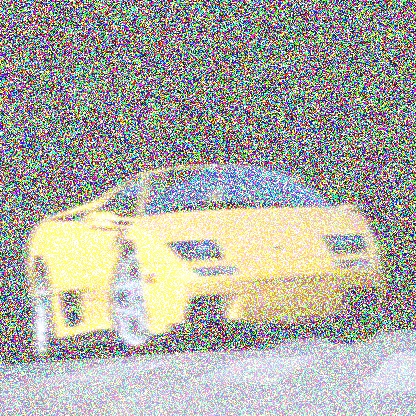Vehicle: (27, 166, 386, 361)
